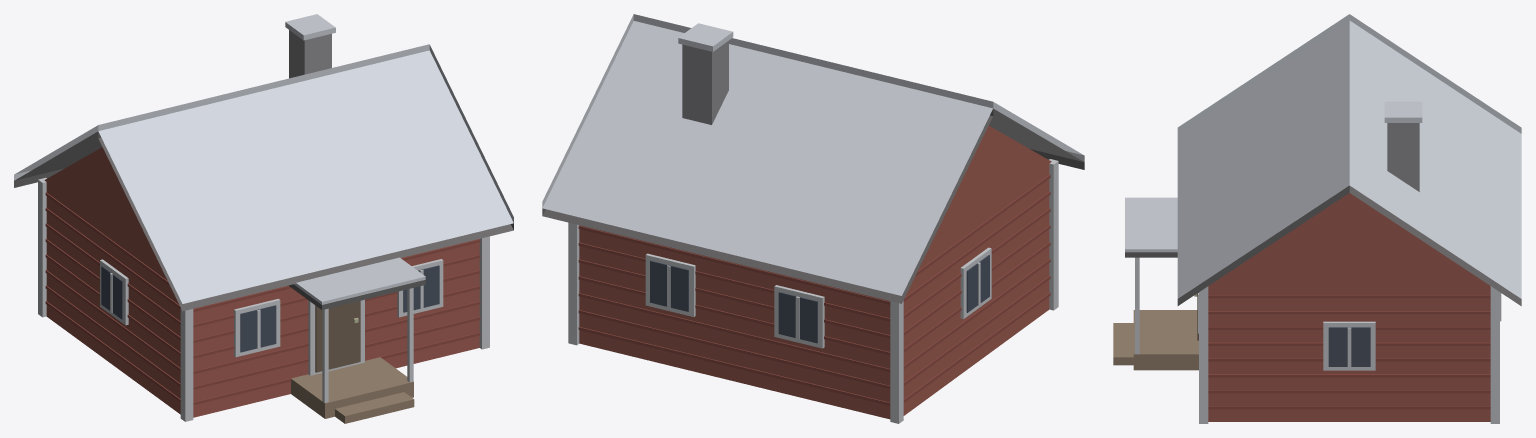
Rendered from mokki.glb.
The picture shows the model from 3 angles, left to right: view 1: azimuth 30°, elevation 25°; view 2: azimuth 150°, elevation 25°; view 3: azimuth 270°, elevation 25°; orthographic projection. The views are drawn at different scales.
Visible parts, largest first — view 1: mokki_runko; view 2: mokki_runko; view 3: mokki_runko.
Part boxes in pixels (x1,y1,x2,y2): mokki_runko: (14, 14, 513, 423); mokki_runko: (542, 14, 1084, 423); mokki_runko: (1113, 14, 1521, 423).
Size of the model in its own units: 6.7 by 5.2 by 7.
